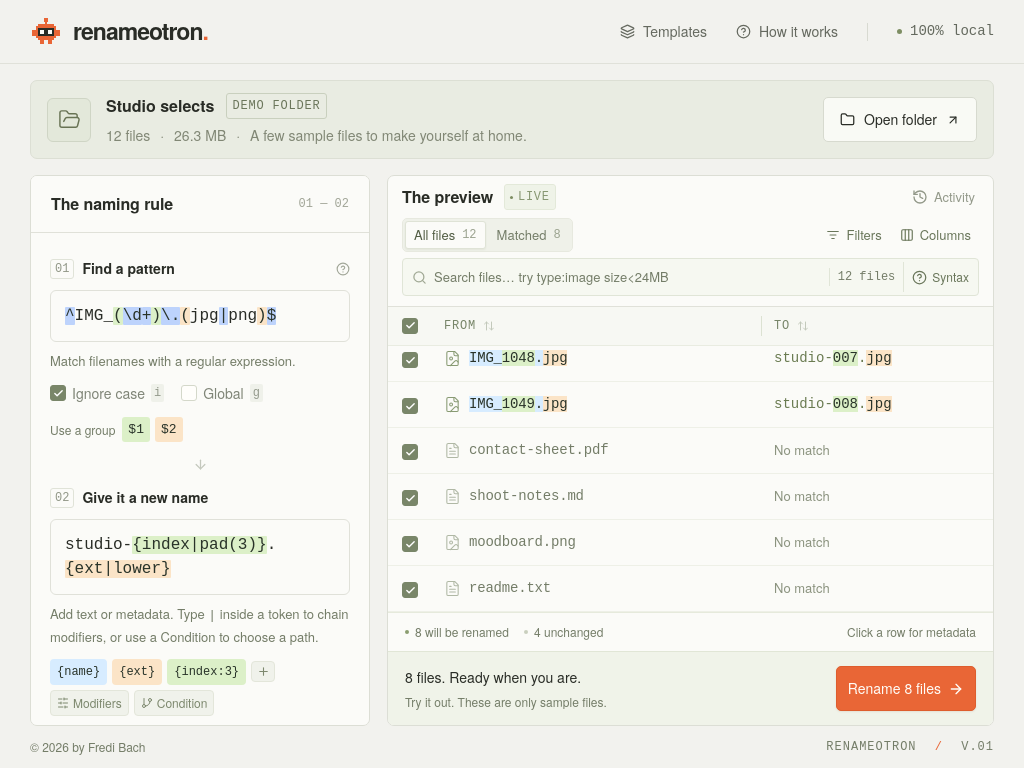
Test: renameotron workspace › shows unavailable metadata for unmatched files without inventing values
(page scrolled)
Click the button with aria-label "View metadata for shoot-notes.md".
click(526, 496)  # box [444,482,750,511]
(page scrolled)
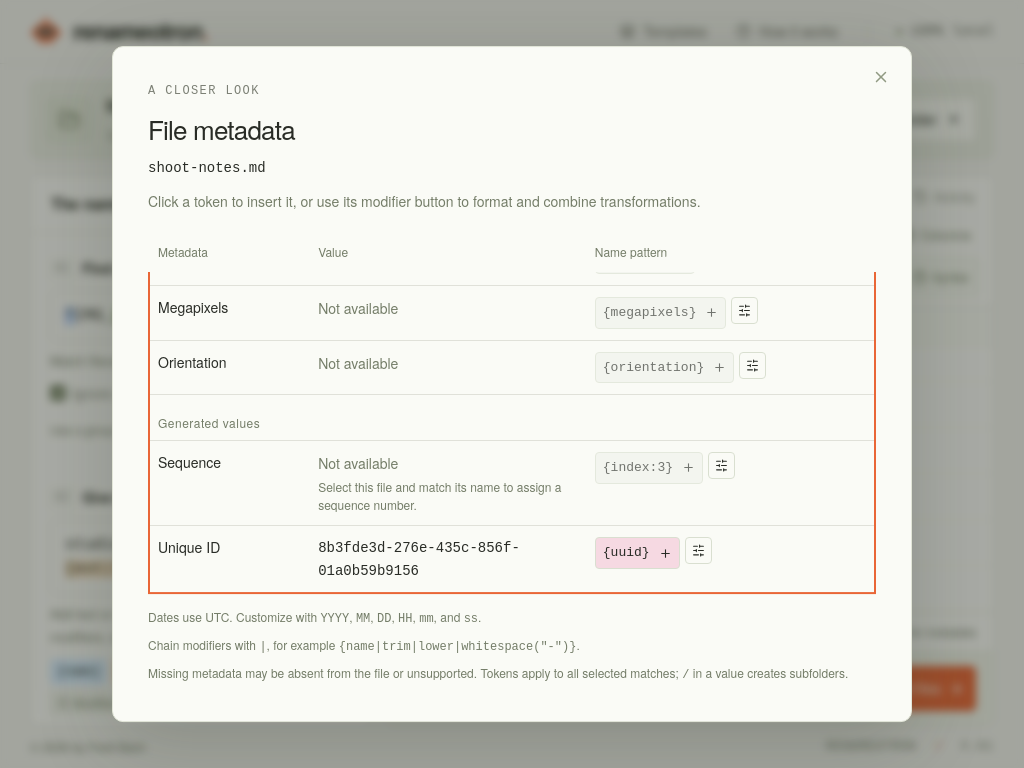
Now the text "Not available" is shown 9 times
Now the button with aria-label "Insert {index:3}" is disabled, box [595,452,703,484]
Now the text "Select this file and match its name to assign a sequence number." is shown, box [318,479,575,515]
